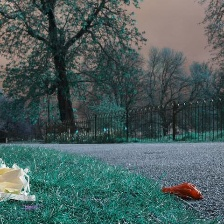plastic_bag: (155, 174, 207, 205)
